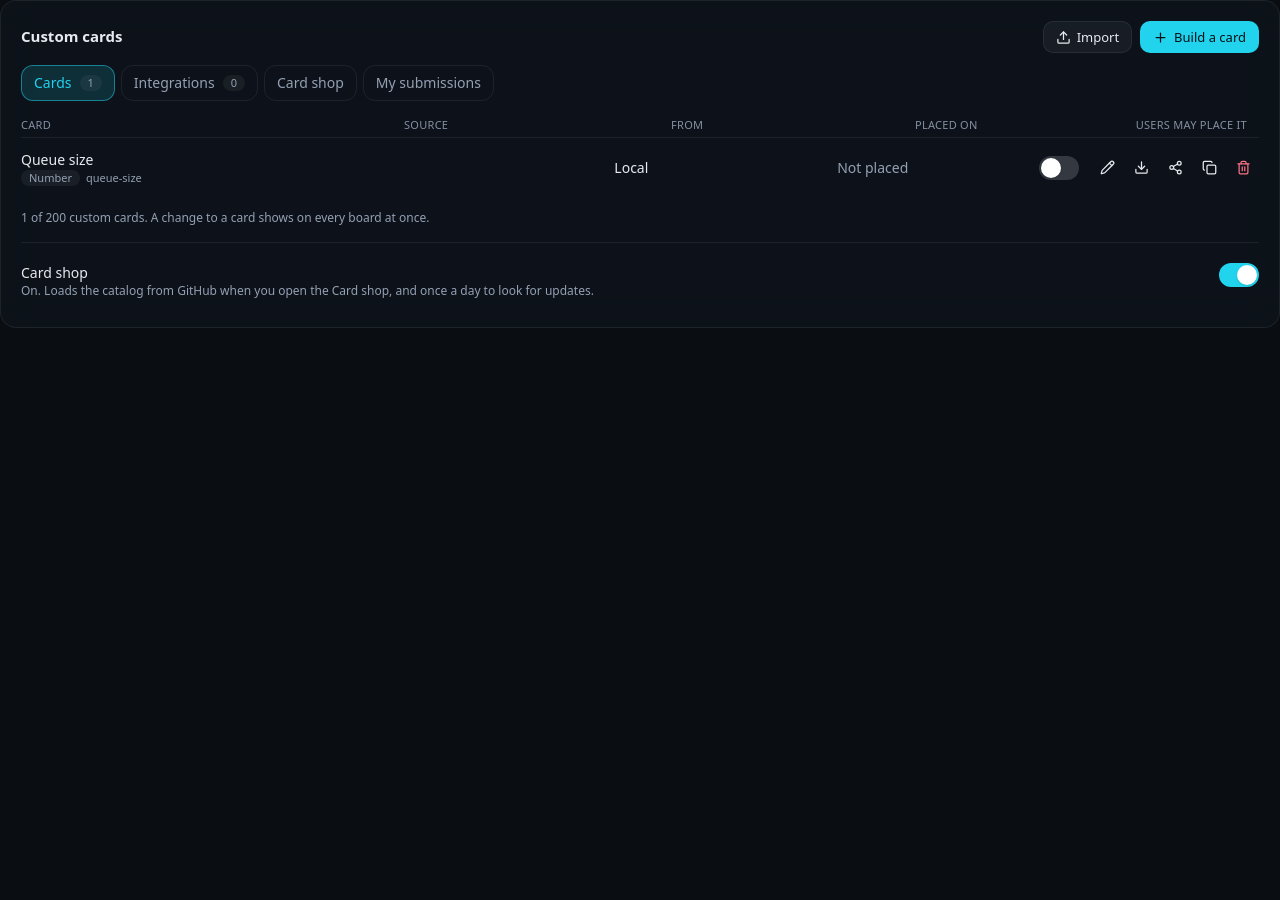
the button and what the dialog asks for › karten16 ac2: a category has to be picked from the list
Click the button named "Share Queue size in the Card shop". click: (1175, 168)
box: [1159,152,1191,184]
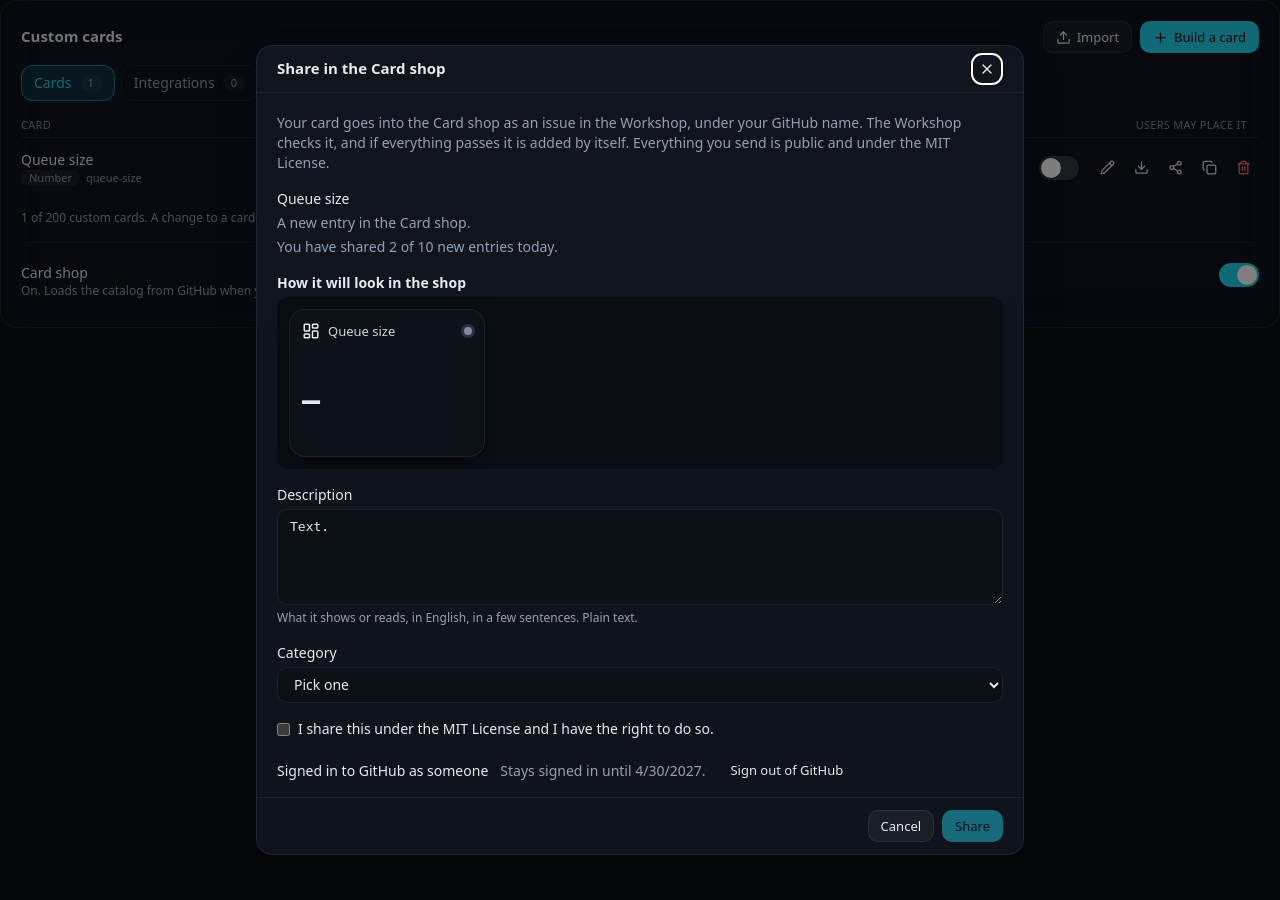
Click the checkbox labelled "MIT License". click: (284, 729)
box: [277,723,290,736]
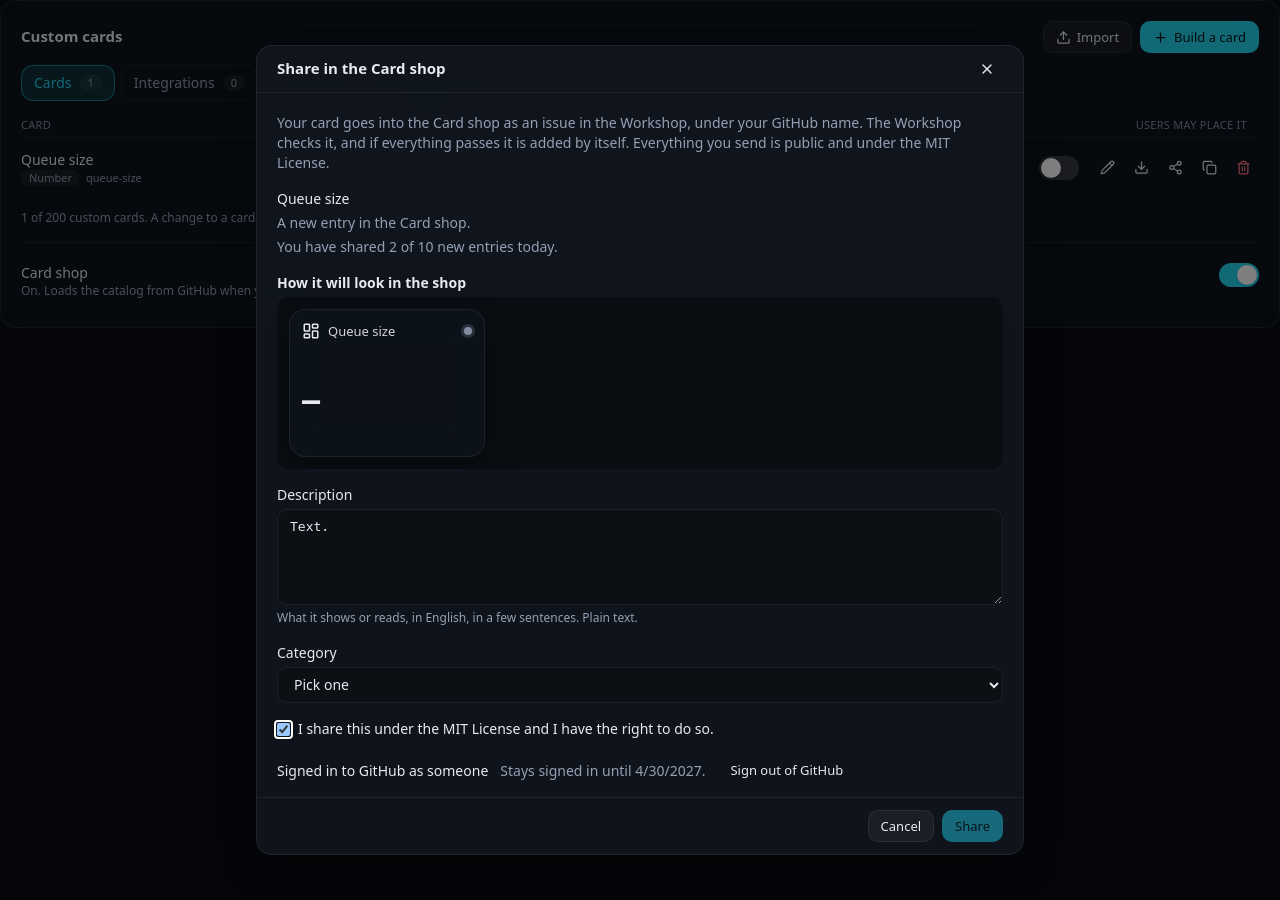
Check: the button "Share" is disabled, box [942,810,1003,842]
Select "Smart home" in the dropdown labelled "Category". click: (640, 685)
box: [277,667,1003,703]
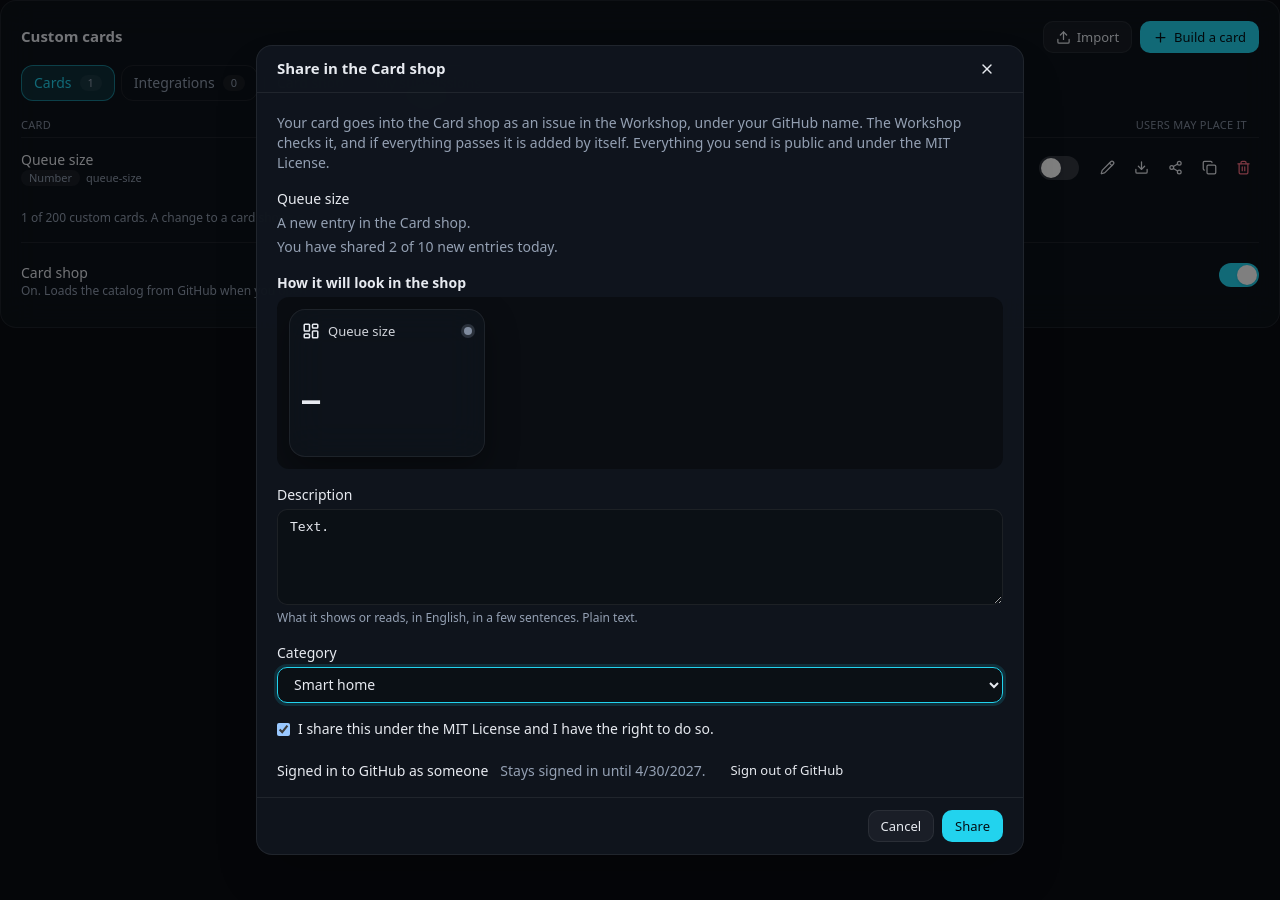
Check: the button "Share" is enabled, box [942,810,1003,842]
